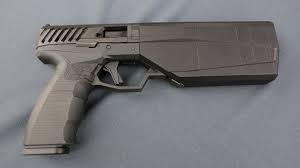gun: (19, 17, 282, 157)
